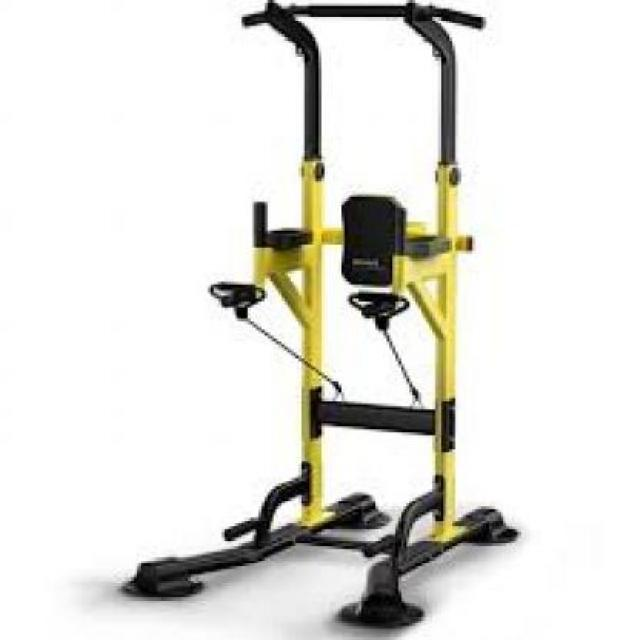chinning dipping: (121, 0, 518, 629)
